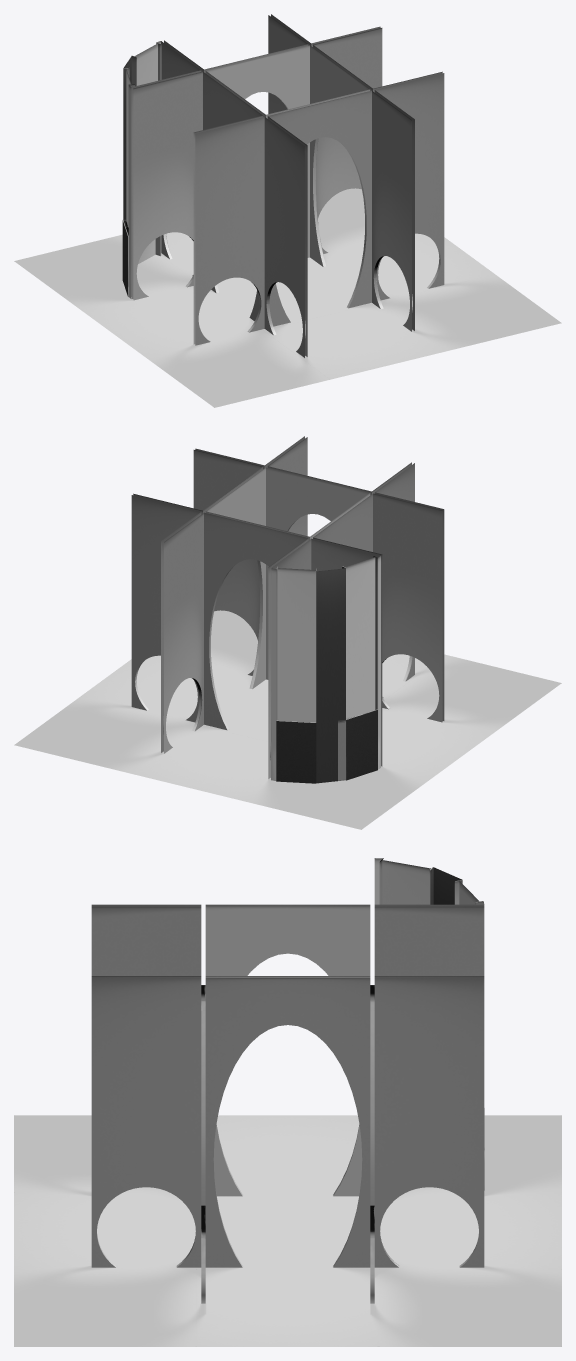
The model's file is SkaroSetShadow.glb.
The picture shows the model from 3 angles, top to bottom: view 1: azimuth 30°, elevation 25°; view 2: azimuth 150°, elevation 25°; view 3: azimuth 270°, elevation 25°; orthographic projection. The views are drawn at different scales.
Visible parts, largest first — view 1: Group, Ground Plane.008, Ground Plane.006, Ground Plane.007, Ground Plane.005, Ground Plane.003, Ground Plane.004, Ground Plane, Wall, Ground Plane.001, Ground Plane.002; view 2: Group, Wall, Ground Plane.001, Ground Plane.008, Ground Plane.002, Ground Plane.003, Ground Plane.005, Ground Plane.004, Doorpanel.001, Ground Plane.006, Ground Plane, Doorpanel.002 (+1 smaller); view 3: Group, Ground Plane.001, Ground Plane.006, Ground Plane.004, Ground Plane.002, Ground Plane.007, Ground Plane.005, Ground Plane, Ground Plane.003, Ground Plane.008, Wall.
Part boxes in pixels (<box>): Group: <box>131,14,444,357</box>; Ground Plane.008: <box>148,331,329,407</box>; Ground Plane.006: <box>381,274,561,351</box>; Ground Plane.007: <box>264,304,445,379</box>; Ground Plane.005: <box>81,284,263,358</box>; Ground Plane.003: <box>14,234,191,309</box>; Ground Plane.004: <box>323,233,494,301</box>; Ground Plane: <box>210,257,372,330</box>; Wall: <box>123,41,161,298</box>; Ground Plane.001: <box>318,188,364,250</box>; Ground Plane.002: <box>161,232,193,277</box>; Group: <box>131,436,444,779</box>; Wall: <box>271,556,380,783</box>; Ground Plane.001: <box>14,696,194,773</box>; Ground Plane.008: <box>384,655,561,731</box>; Ground Plane.002: <box>130,726,273,801</box>; Ground Plane.003: <box>246,769,427,829</box>; Ground Plane.005: <box>380,706,494,780</box>; Ground Plane.004: <box>81,655,252,723</box>; Doorpanel.001: <box>276,720,316,783</box>; Ground Plane.006: <box>211,610,257,672</box>; Ground Plane: <box>203,679,268,741</box>; Doorpanel.002: <box>346,709,377,780</box>; Group: <box>91,904,484,1303</box>; Ground Plane.001: <box>379,1269,561,1346</box>; Ground Plane.006: <box>14,1269,196,1346</box>; Ground Plane.004: <box>196,1269,379,1346</box>; Ground Plane.002: <box>379,1192,561,1269</box>; Ground Plane.007: <box>14,1192,196,1269</box>; Ground Plane.005: <box>216,1115,359,1192</box>; Ground Plane: <box>196,1192,379,1269</box>; Ground Plane.003: <box>407,1115,561,1192</box>; Ground Plane.008: <box>14,1115,168,1192</box>; Wall: <box>374,858,484,904</box>.
Size of the model in its own units: 12 by 7 by 12.
4 materials, 4 textured.
